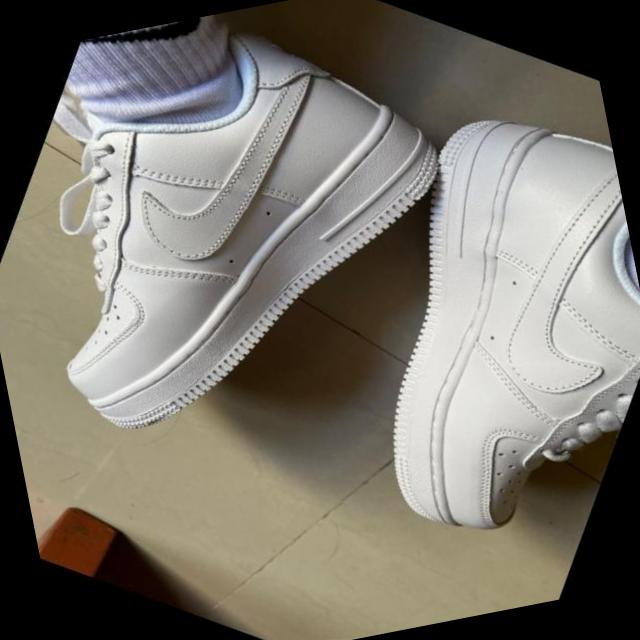nike_original_airforce: (0, 0, 531, 554), (249, 55, 640, 616)
